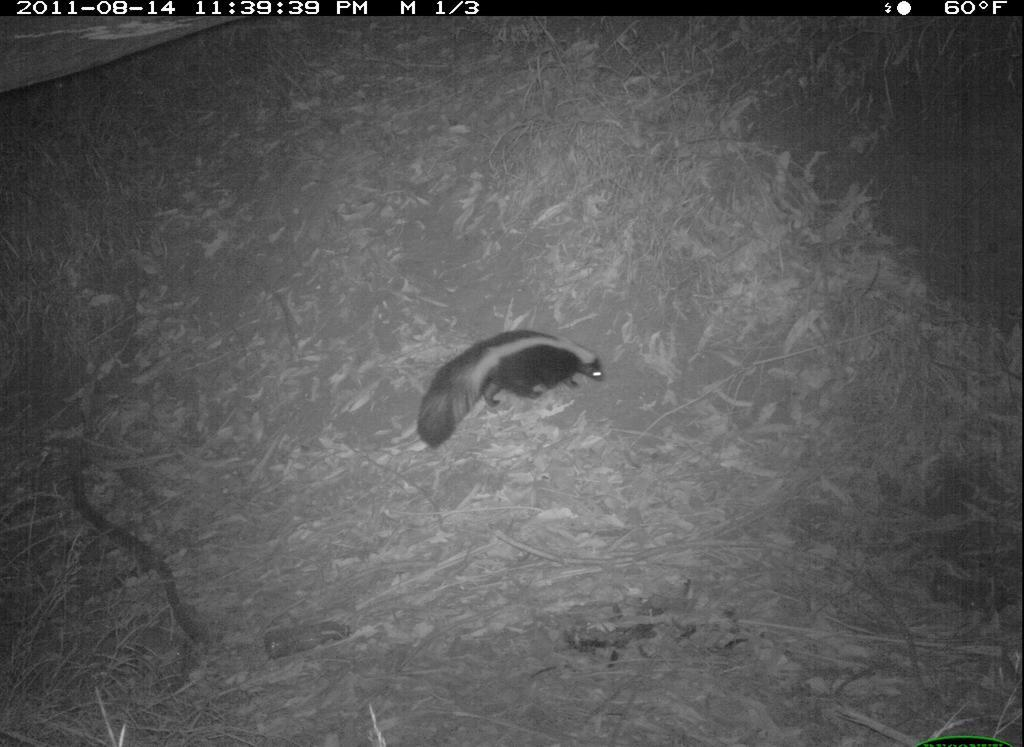skunk: (410, 328, 614, 460)
